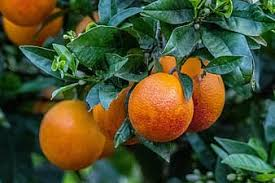orange: (153, 52, 225, 131), (36, 96, 104, 170), (126, 66, 194, 140), (92, 80, 148, 147)
